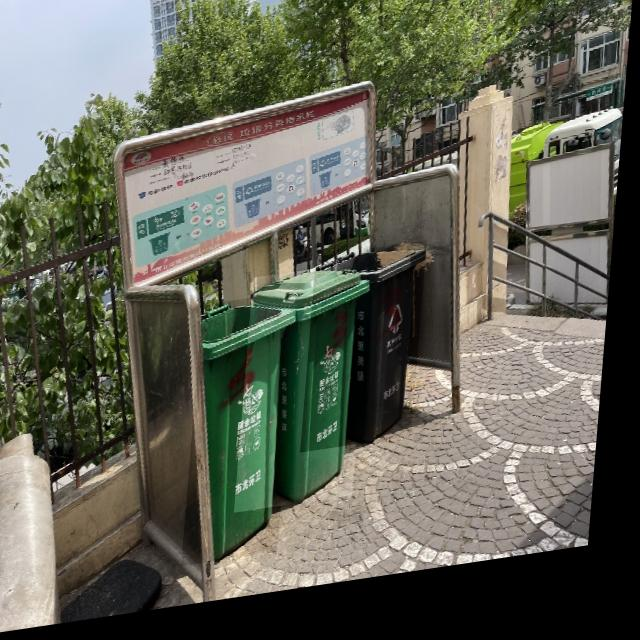garbage_bin: (243, 273, 377, 521), (191, 301, 305, 573), (309, 254, 432, 463)
